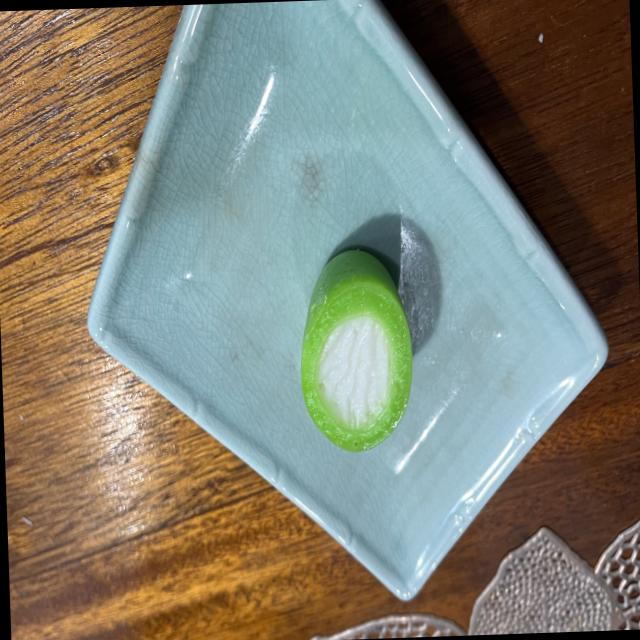nona-manis: (300, 250, 412, 452)
